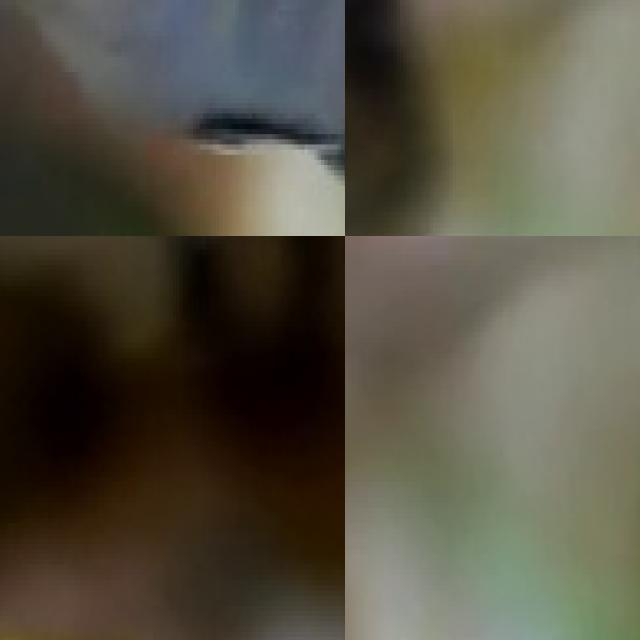fish: (0, 0, 345, 236), (345, 0, 472, 236)
